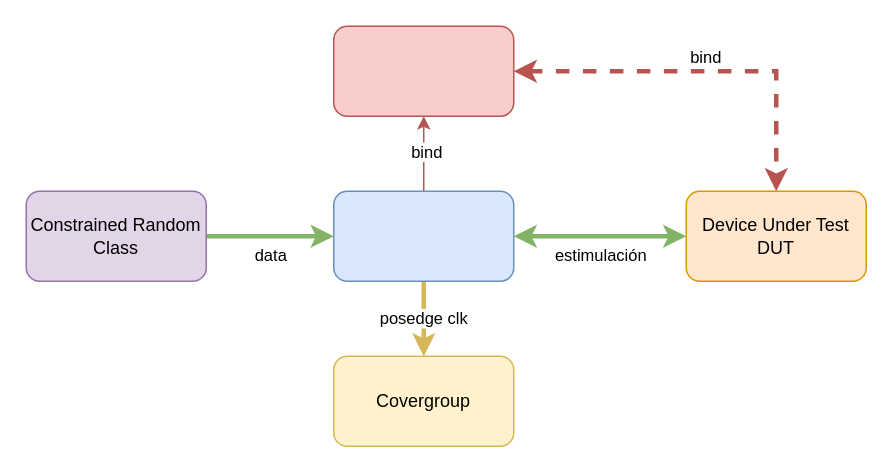
This 893x473 diagram has some shape labels left out. The shapes that lost their labels are listed below. From the top down, each one's centre as x and y in pixels, then its label:
the point at 423,70: SVA
the point at 423,235: Testbench
